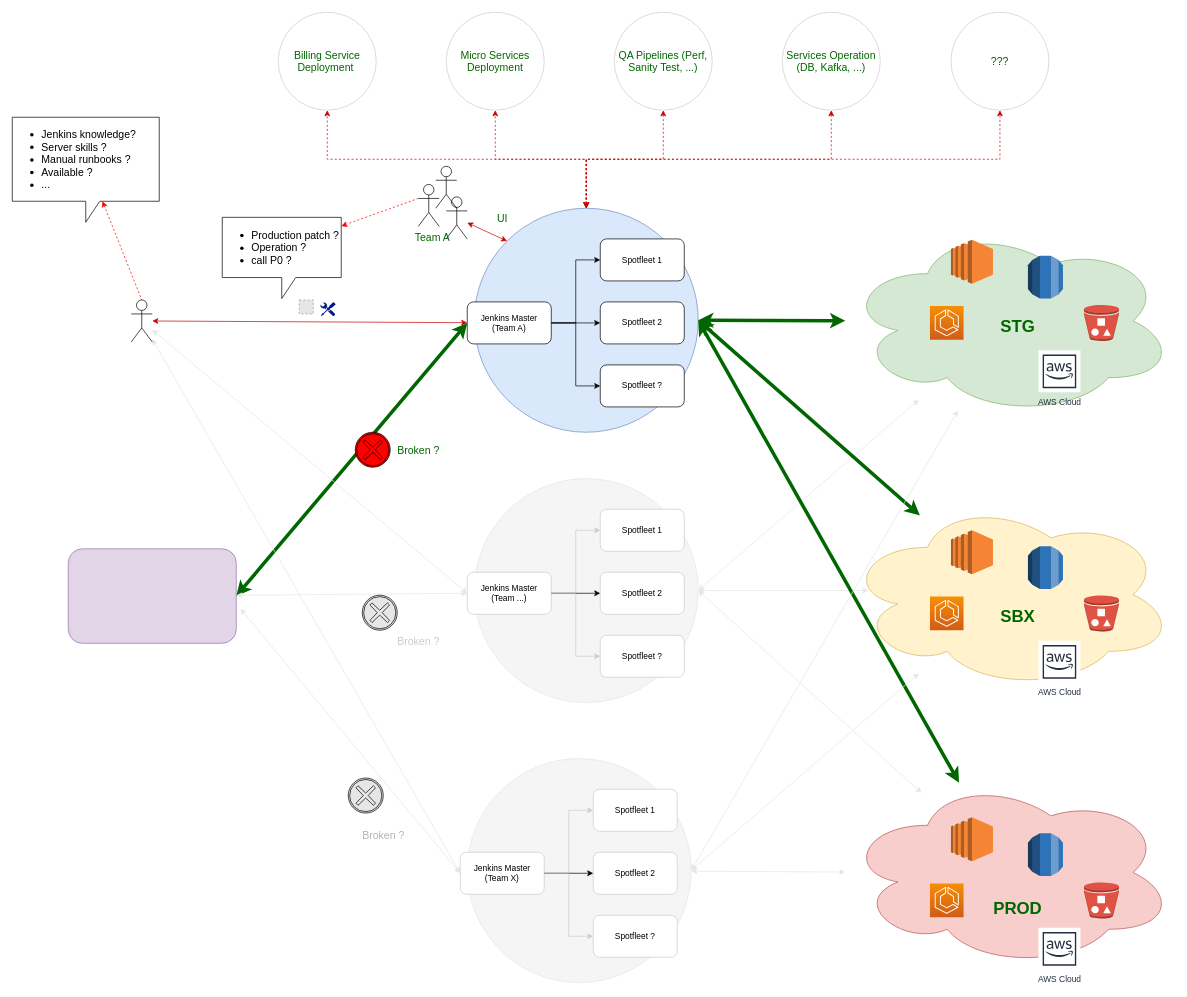
The diagram is 1187 pixels wide and 997 high, and some of its shapes have lost their labels. Grey dashed boxes stand in for pictures. The shapes that lost their labels are listed below. From the top down, each one's centre as x and y in pixels, then its label:
At [141,320]: "Tools Team".
At [152,595]: "Homer 2.0".
